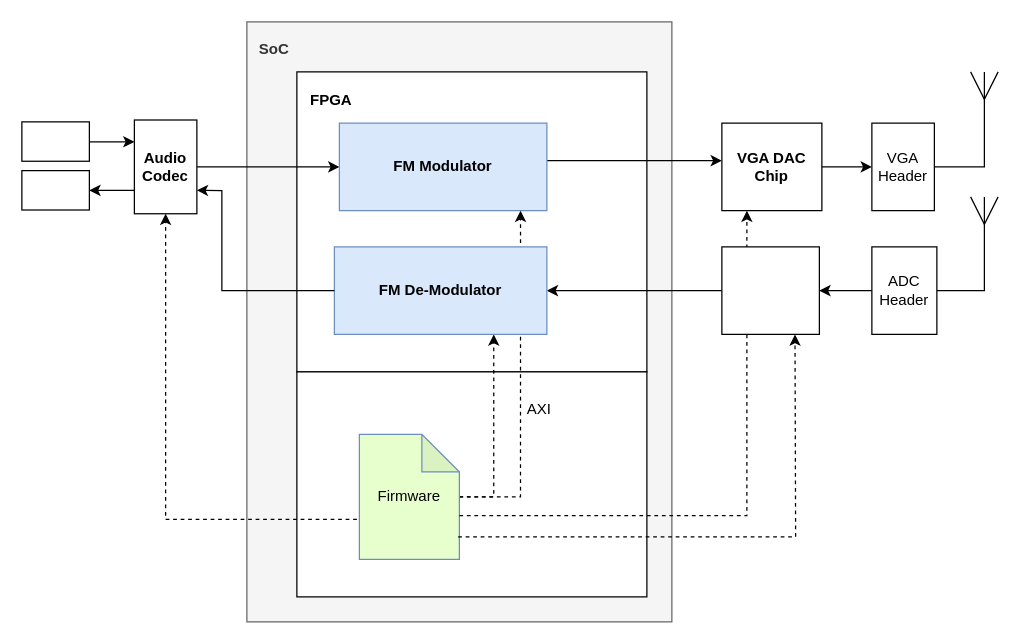
The diagram is 1034 pixels wide and 644 high, and some of its shapes have lost their labels. The shapes that lost their labels are listed below. From the top down, each one's box as (x1, y1, x2, y2) in pixels, then its label:
(21, 121, 89, 161): Line In
(21, 169, 89, 210): Line Out
(721, 246, 819, 334): ADC Chip
(296, 371, 647, 597): HPS (ARM A9)
